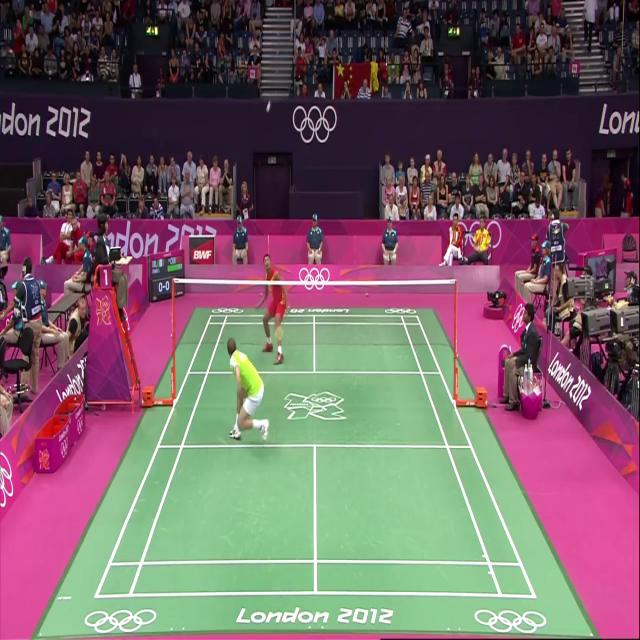Net: (172, 278, 461, 347)
Player1: (209, 332, 277, 445)
Player2: (248, 247, 290, 371)
Shuttlecock: (264, 92, 276, 113)
